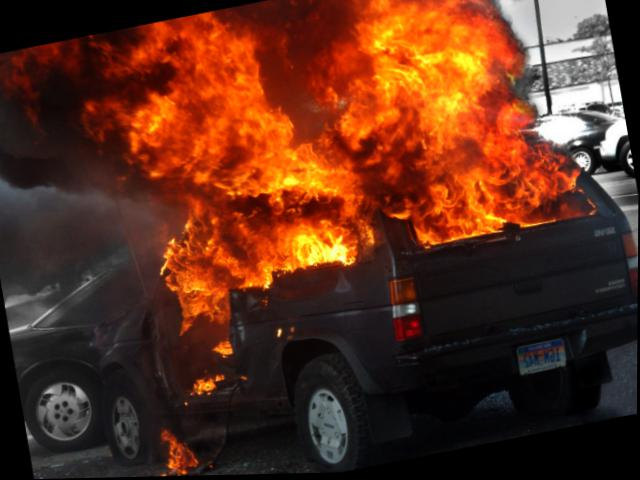fire: (64, 0, 572, 346), (154, 420, 206, 476), (189, 367, 223, 401)
